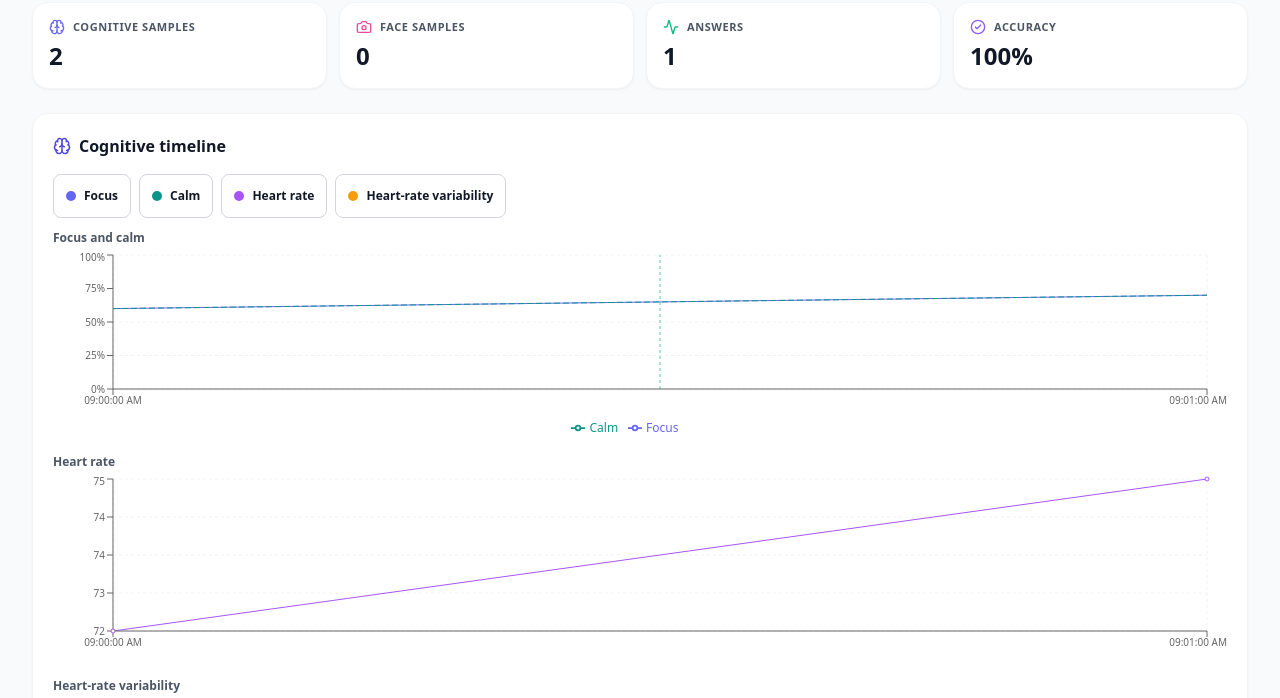
Test: choosing which measurements the timeline draws › explains an empty timeline and offers a way back
This screenshot has width=1280, height=698.
Click the switch labelled "Focus" at point(92, 196), box left=53, top=174, right=131, bottom=218
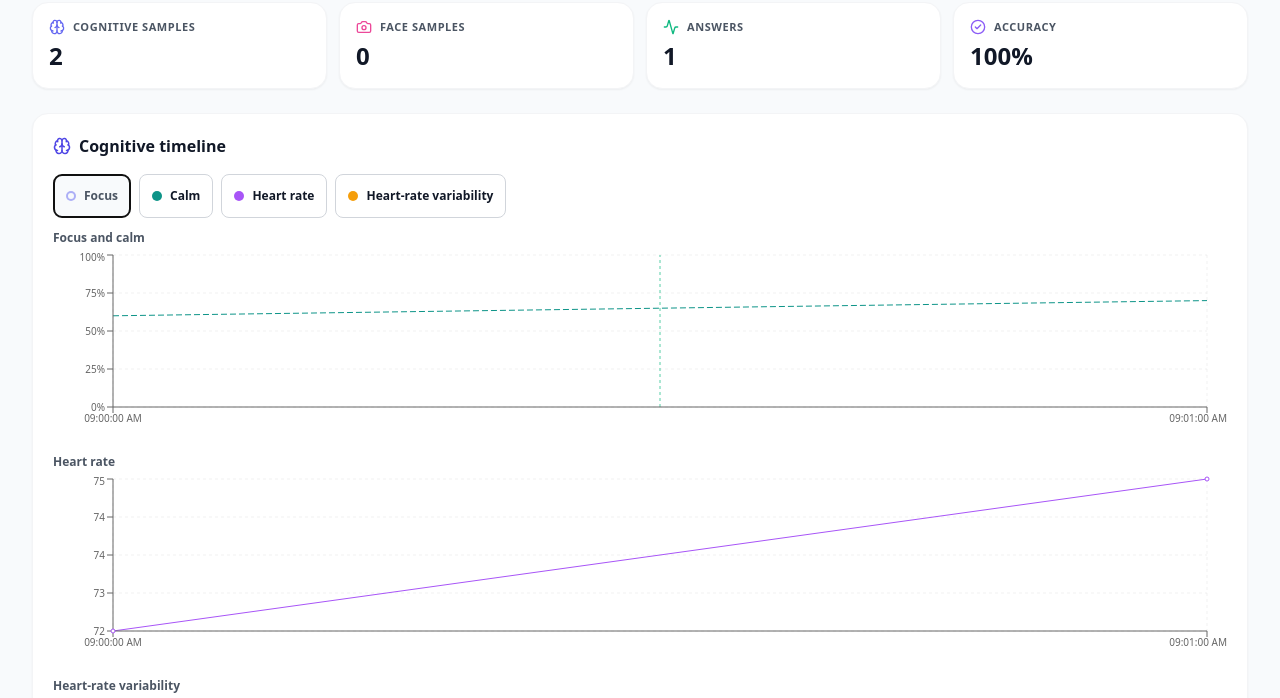
Click the switch labelled "Calm" at point(176, 196), box left=139, top=174, right=213, bottom=218
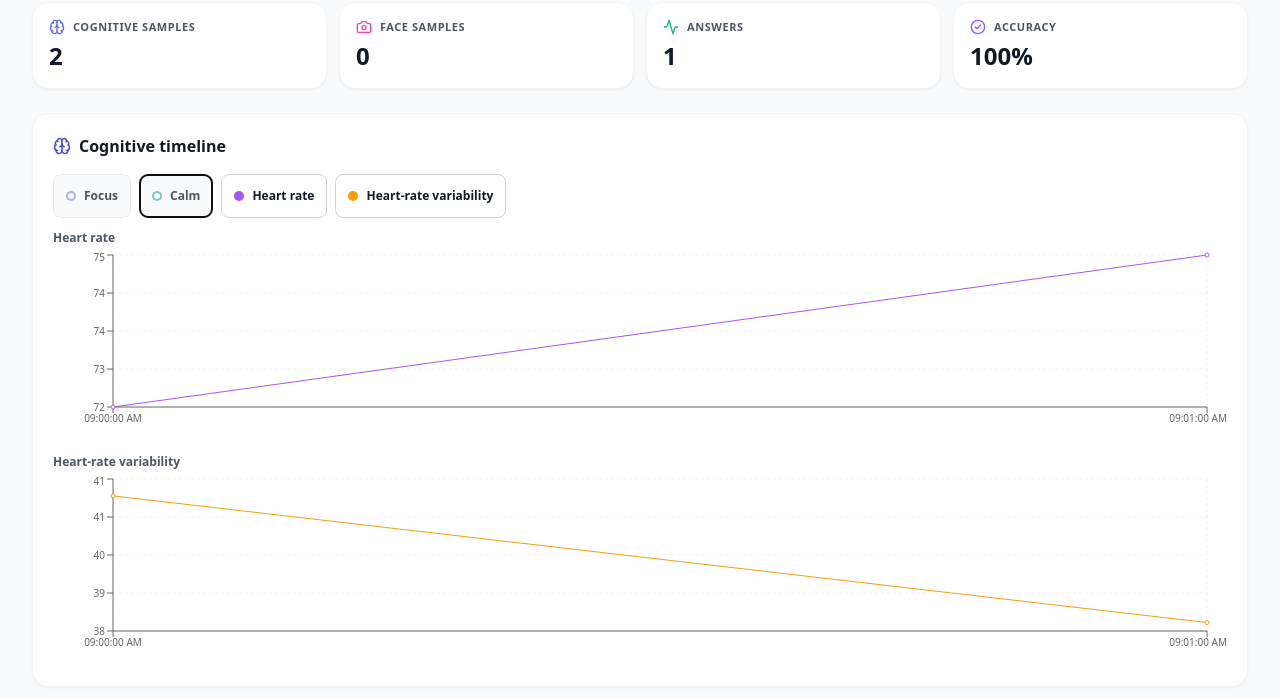
Click the switch labelled "Heart rate" at point(274, 196), box left=221, top=174, right=328, bottom=218
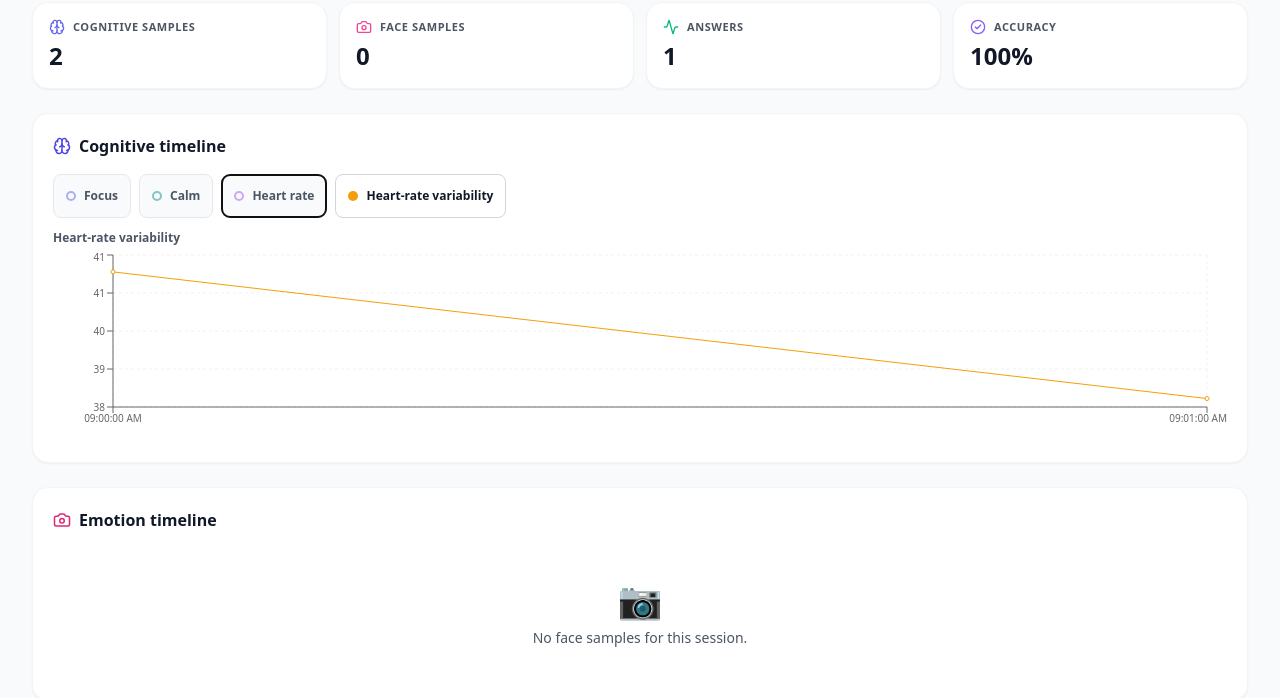
Click the switch labelled "Heart-rate variability" at point(421, 196), box left=336, top=174, right=506, bottom=218
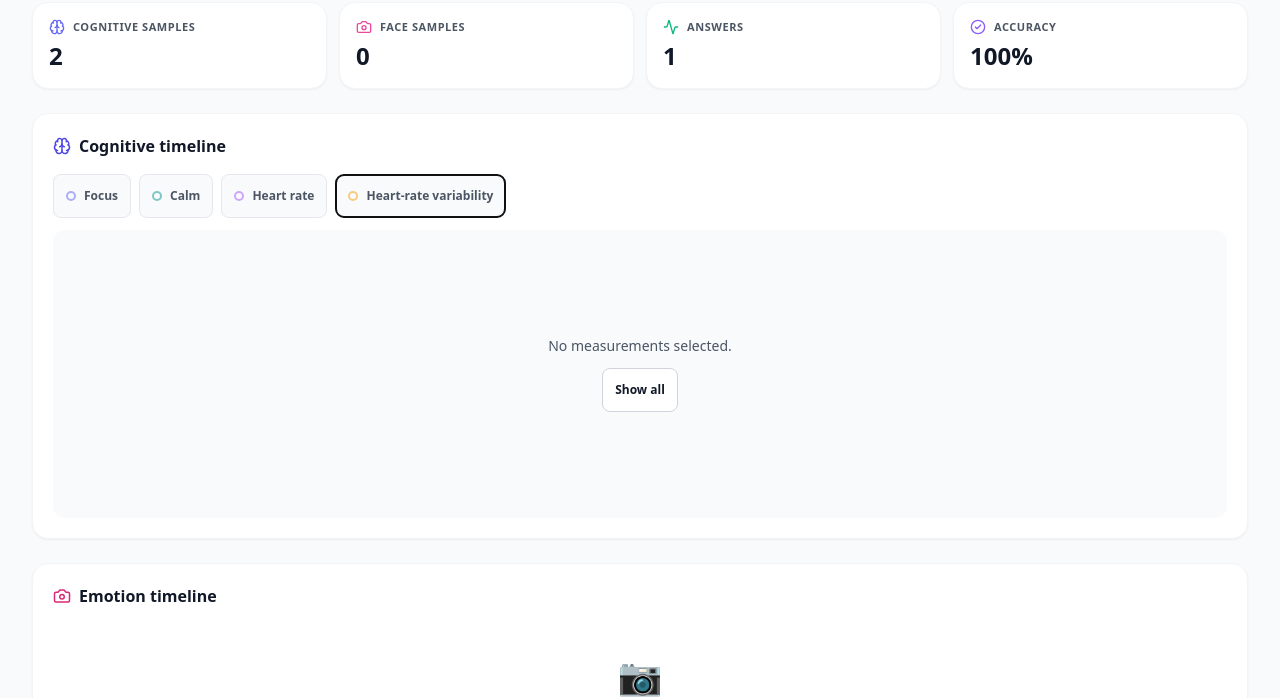
Now the text "No measurements selected." is shown, box left=548, top=336, right=732, bottom=356
Now the text "Session replay" is gone
Click the button "Show all" at point(640, 390), box left=602, top=368, right=678, bottom=412
(page scrolled)
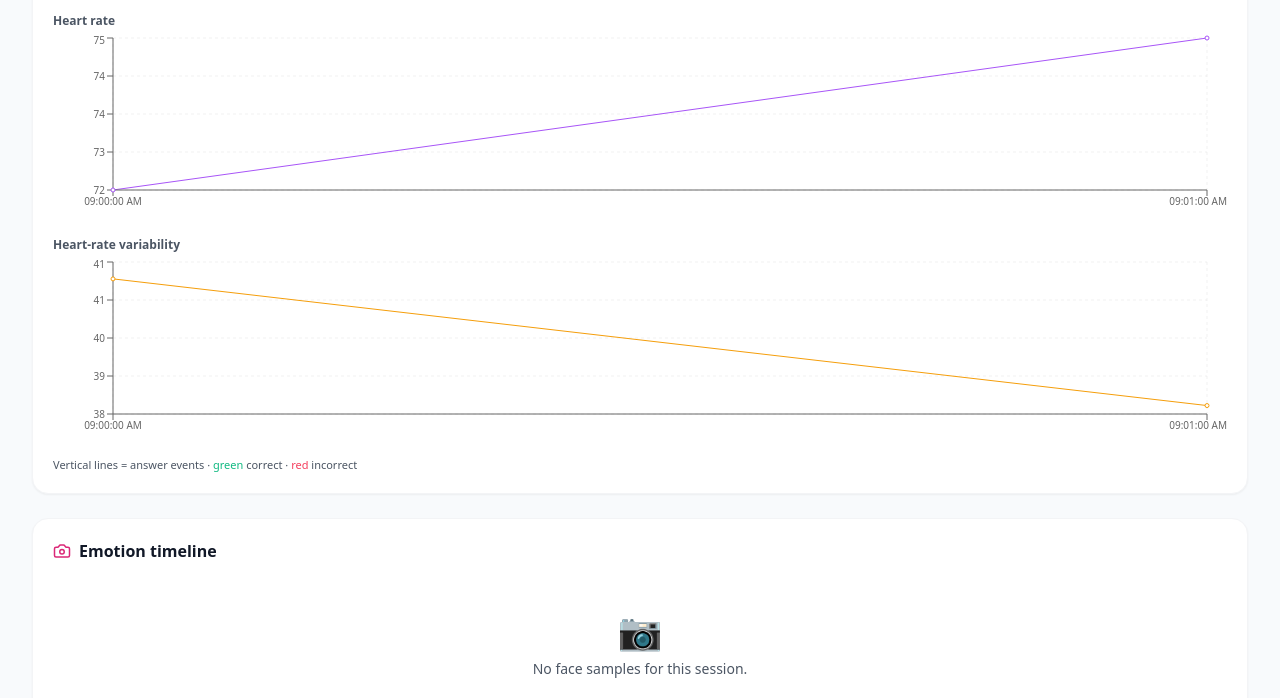
Now the column heading "Heart-rate variability" is shown, box left=329, top=280, right=722, bottom=306
